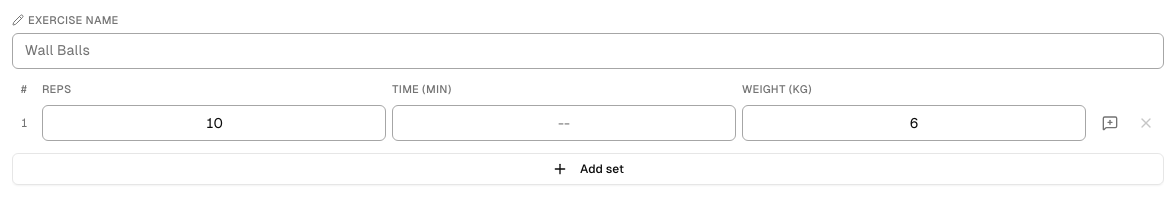
it: InlineSetEditor number entry › keeps the stored reps when the entry is not a whole number of at least one
This screenshot has width=1176, height=202.
Replace the text in the field with test id "input-reps-set-1" with "8.5" at (214, 123), box [42,105,386,141]
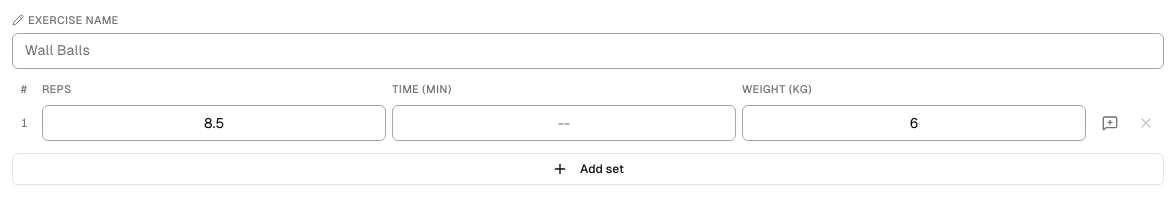
Leave the field with test id "input-reps-set-1", box [42,105,386,141]
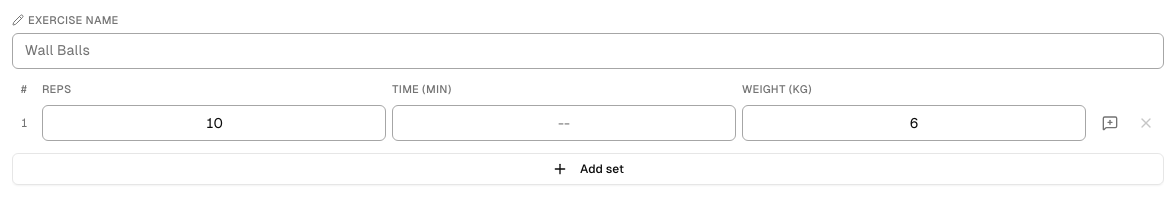
Expected: the field with test id "input-reps-set-1" holds "10"
Replace the text in the field with test id "input-reps-set-1" with "-3" at (214, 123), box [42,105,386,141]
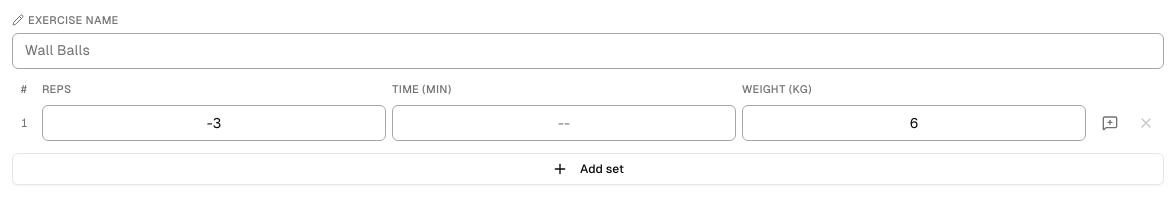
Leave the field with test id "input-reps-set-1", box [42,105,386,141]
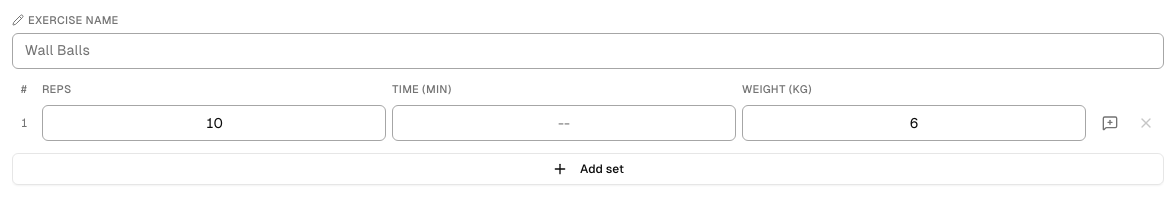
Expected: the field with test id "input-reps-set-1" holds "10", [42,105,386,141]
